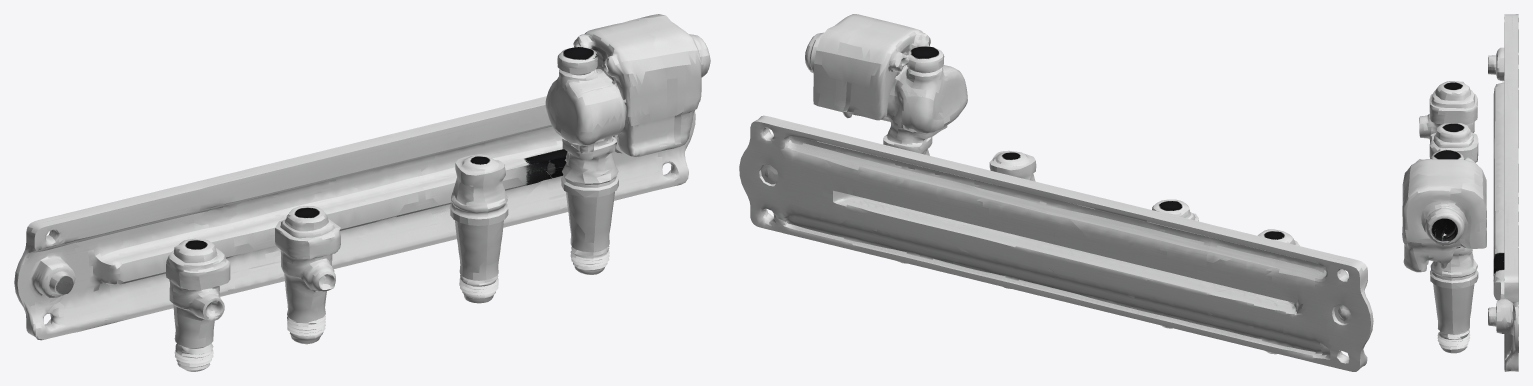
File: fuel-rail-flexstart.glb
3 views of the same model, side by side, from view 1: azimuth 30°, elevation 25°; view 2: azimuth 150°, elevation 25°; view 3: azimuth 270°, elevation 25° (orthographic). The views are drawn at different scales.
Bounding box in the file's own units: 1.9 × 0.6217 × 0.3373.
1 material, 1 textured.
